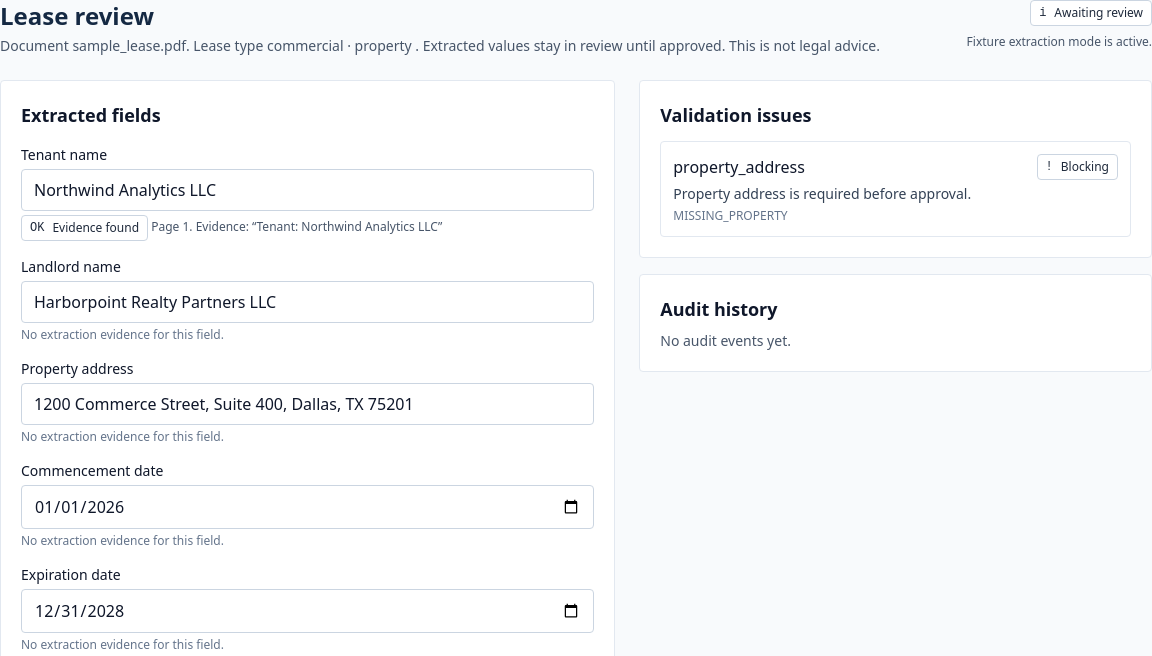
save operation updates the review form
The width and height of the screenshot is (1152, 656).
Replace the text in the field labelled "Property address" with "410 Example Parkway, Denver, CO 80202" at (308, 404), box [21, 383, 594, 425]
(page scrolled)
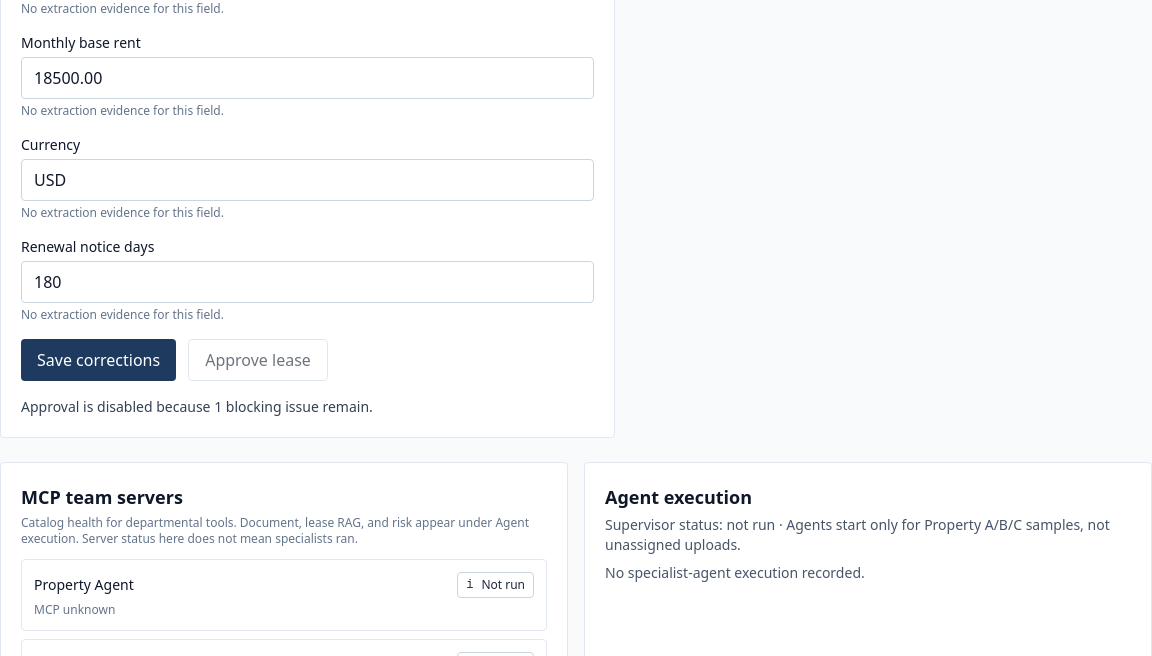
Click the button "Save corrections" at (99, 360), box [21, 339, 176, 381]
(page scrolled)
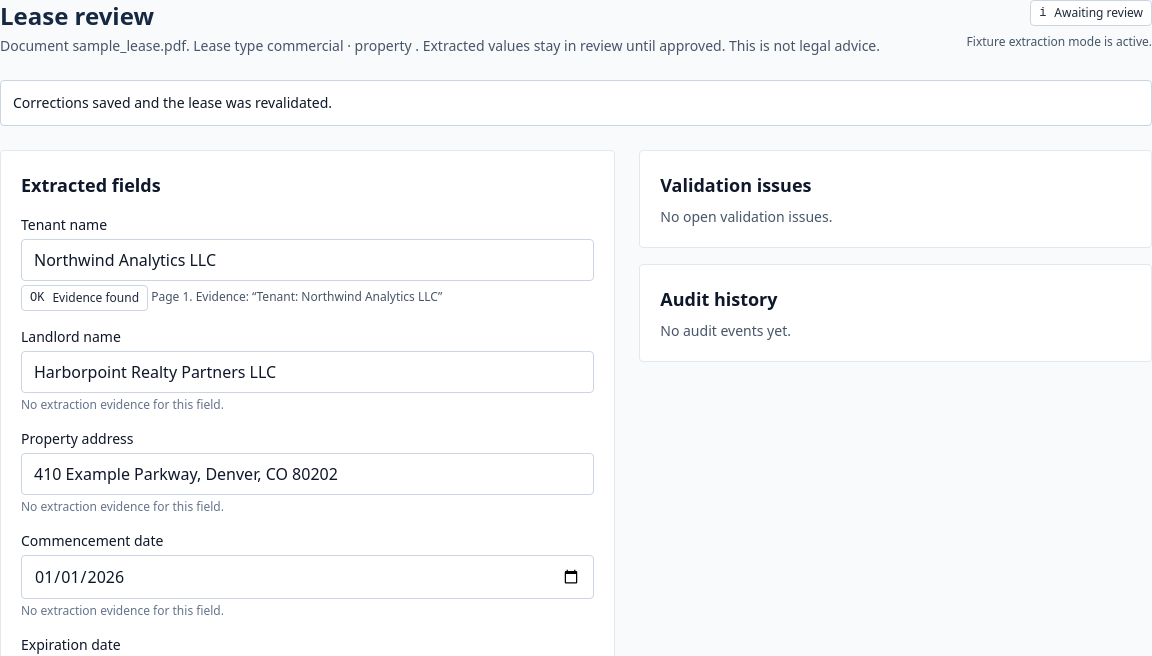
Expected: the message shows "Corrections saved", [13, 93, 332, 112]
